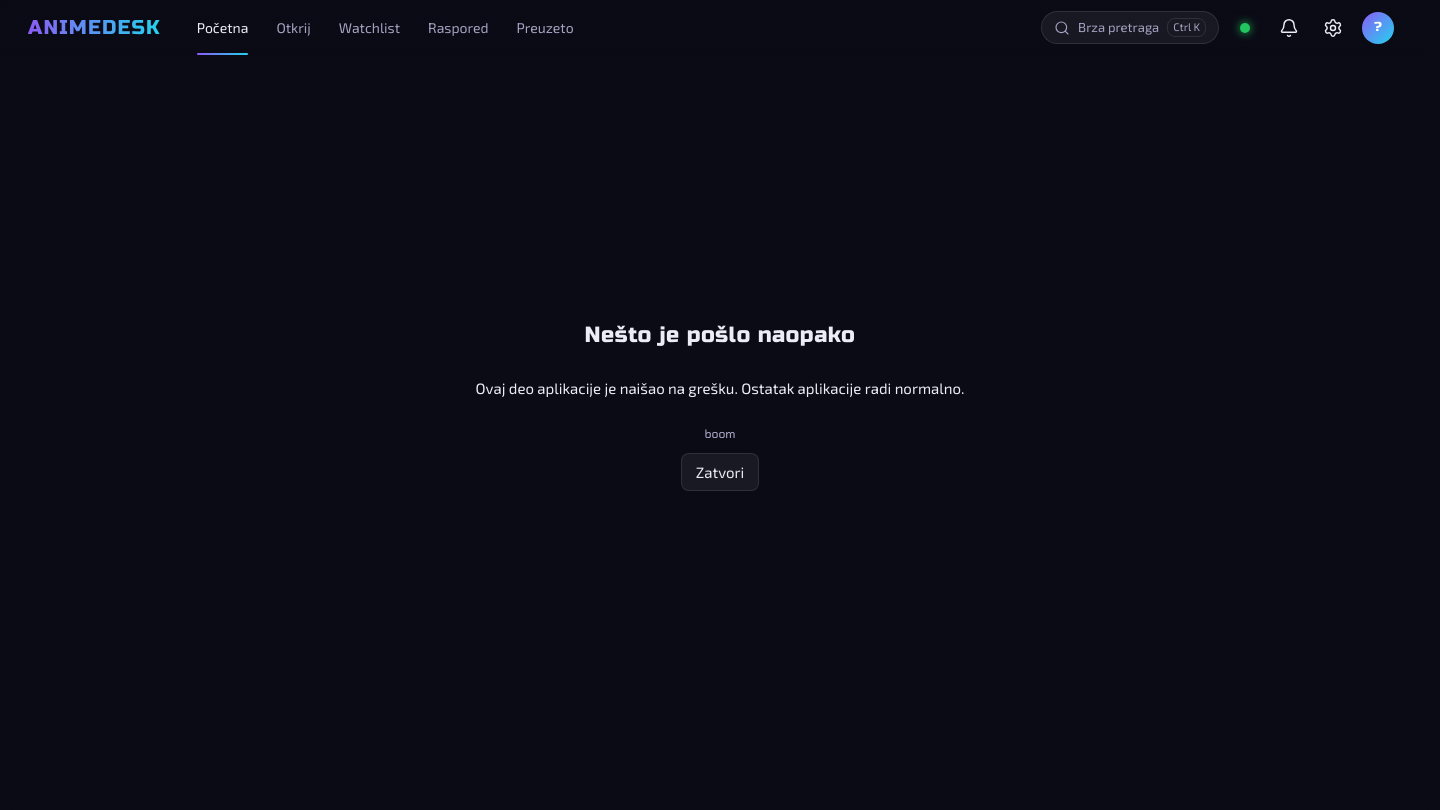
Test: Player that never gets going › a top bar click over the crash screen is not lost
expect the field labelled "Naziv animea…" is shown: met, box [28, 422, 1325, 460]
expect the button "Zatvori" is shown: met, box [681, 452, 759, 491]
Click the button named "Podešavanja" at (1333, 28), box [1315, 10, 1351, 46]
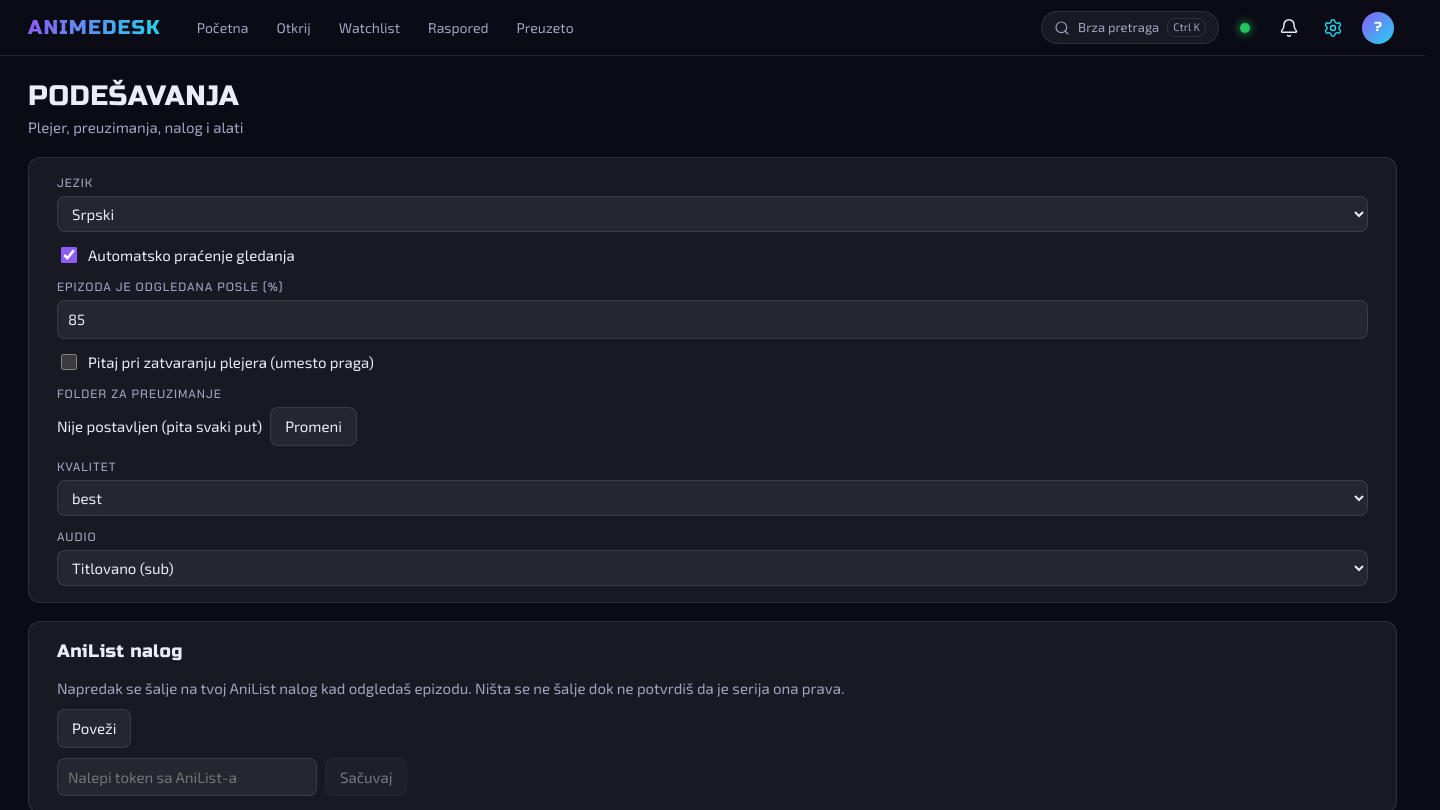
expect the heading "Podešavanja" is shown: met, box [28, 79, 239, 113]
expect the message with class "error-fallback--overlay" is gone: met
